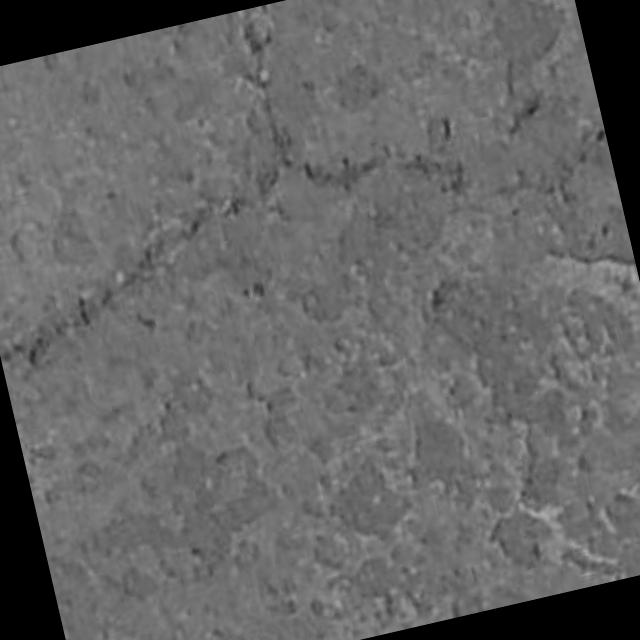crack: (0, 207, 215, 370)
